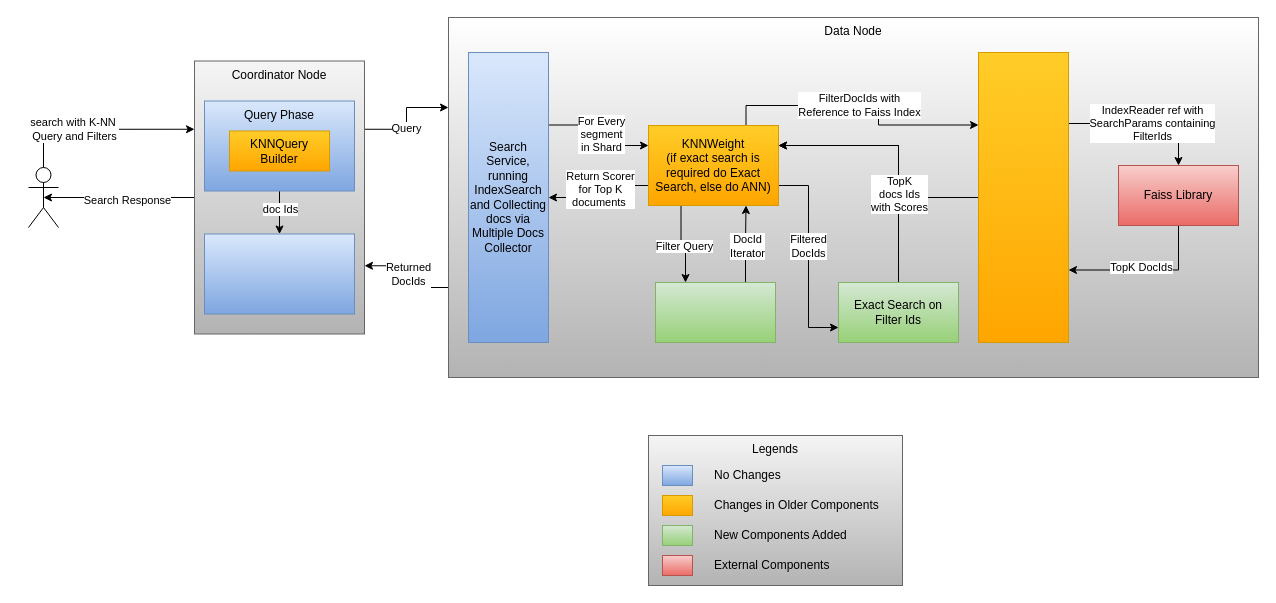
Some shapes in this 1276 by 603 pixel diagram are drawn without their labels. The shapes that lost their labels are listed below. From the top down, each one's centre as x and y in pixels, then its label:
At (43,197): "Customer".
At (1023,197): "JNI Layer".
At (279,273): "Fetch Phase".
At (715,312): "Build and Run Lucene Query".
